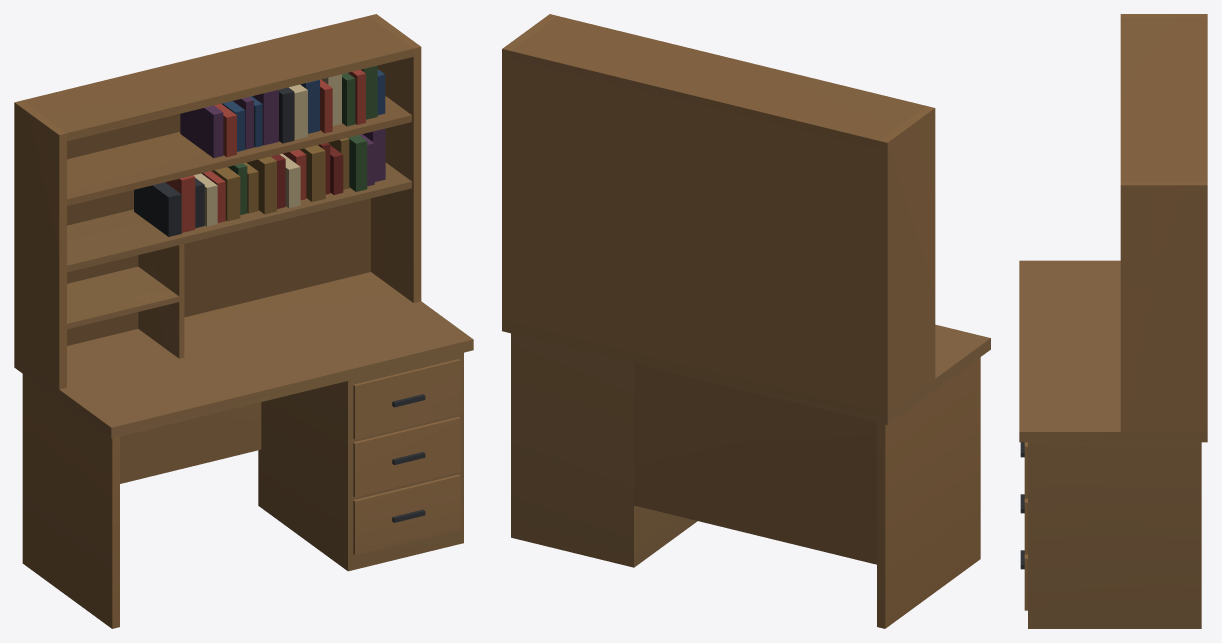
File: table.desk_hutch.oak.glb
The picture shows the model from 3 angles, left to right: view 1: azimuth 30°, elevation 25°; view 2: azimuth 150°, elevation 25°; view 3: azimuth 270°, elevation 25°; orthographic projection. The views are drawn at different scales.
Parts seen in each view (by area): view 1: table_desk_hutch_oak; view 2: table_desk_hutch_oak; view 3: table_desk_hutch_oak.
Boxes of the visible parts, <box> form: table_desk_hutch_oak: <box>14,14,473,628</box>; table_desk_hutch_oak: <box>502,14,990,628</box>; table_desk_hutch_oak: <box>1019,14,1207,628</box>.
Size of what is drawn, in the model's own units: 1.4 by 1.7 by 0.65.
